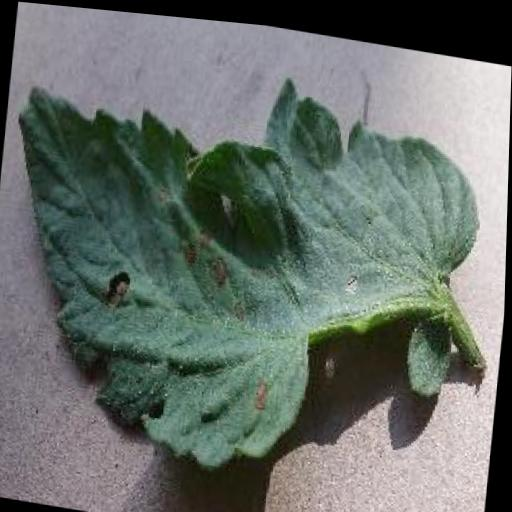Early Blight: (0, 42, 493, 512)
